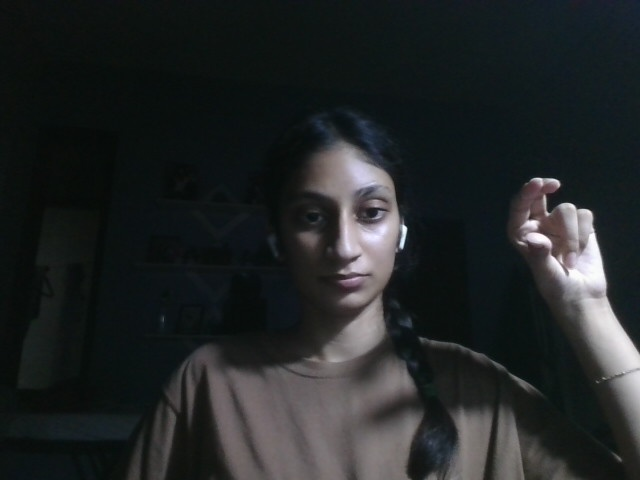no: (508, 177, 617, 300)
